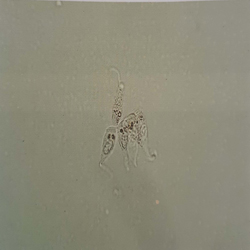Epithelial: (88, 67, 164, 179)
